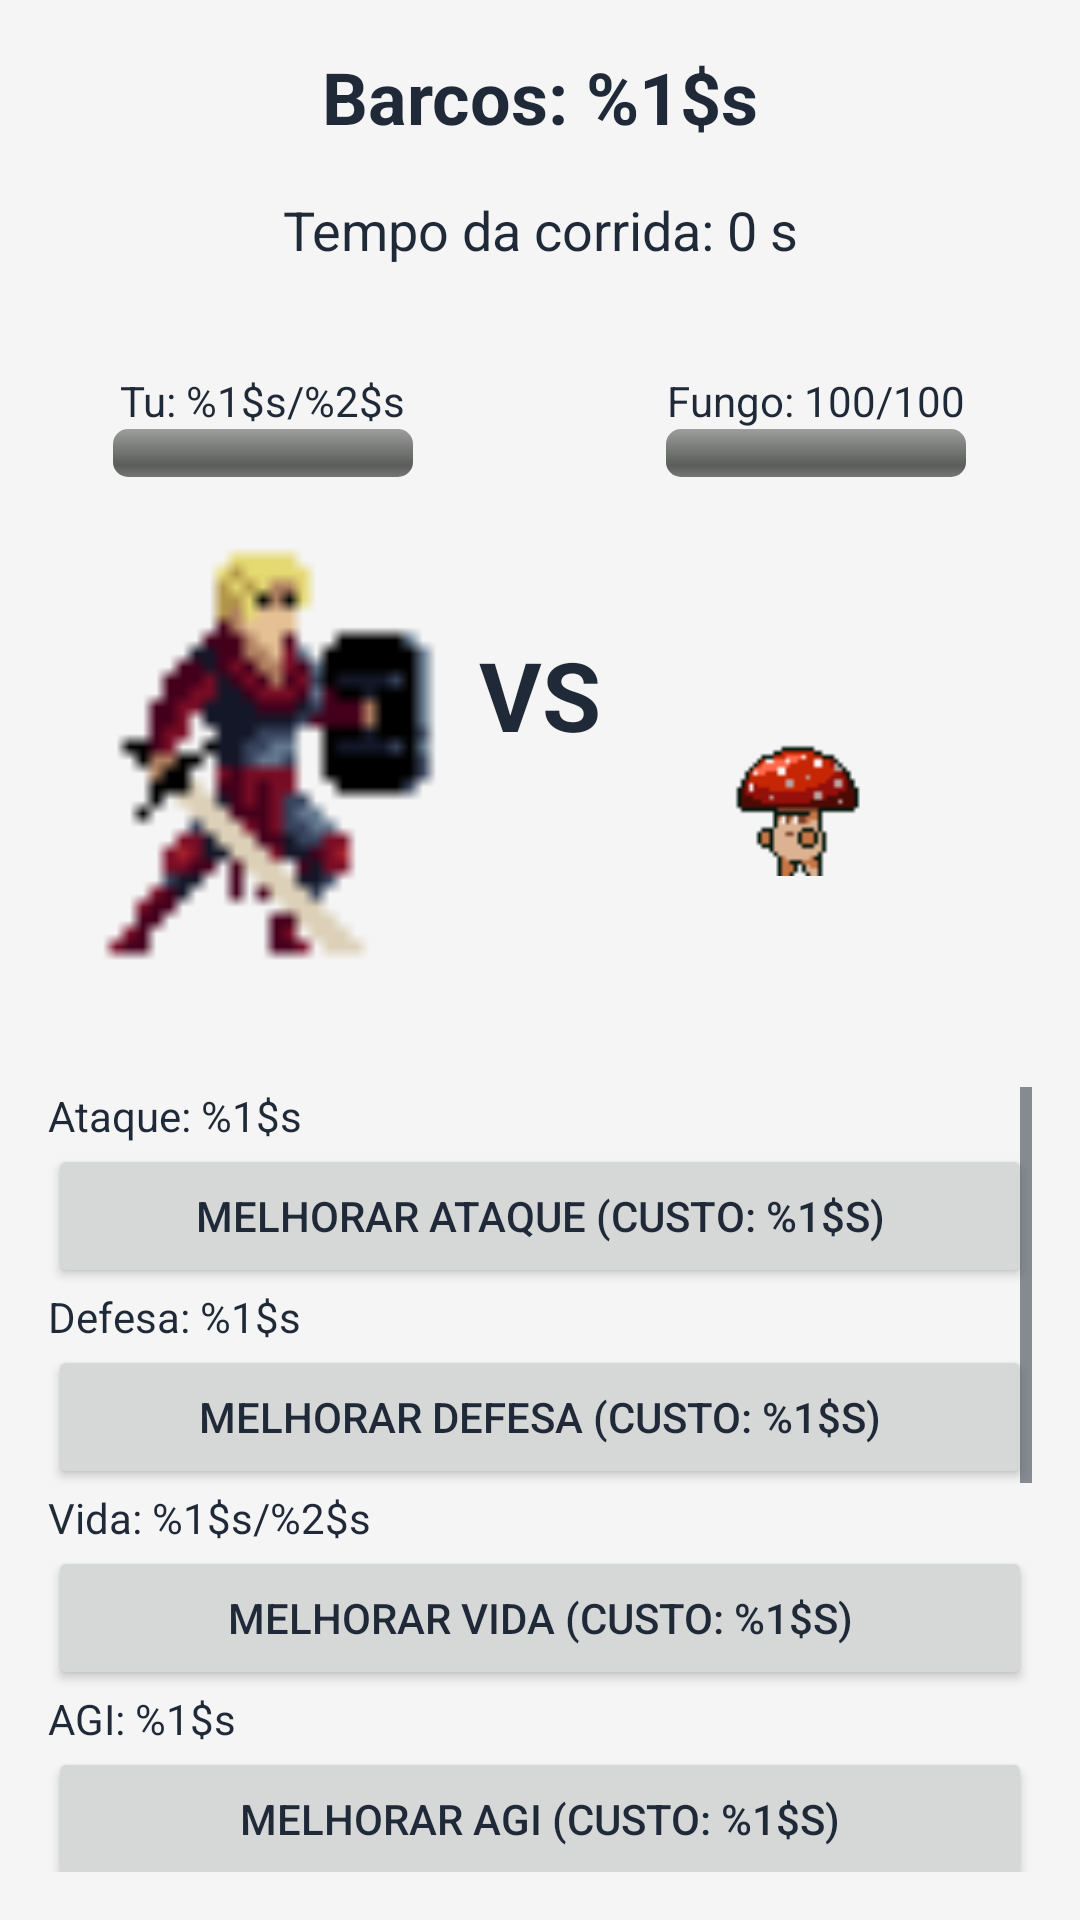

Where icons sit on this 1080x1920 app screen, as (x1, y1, x2, y2):
fungo idle: (736, 745, 860, 876)
